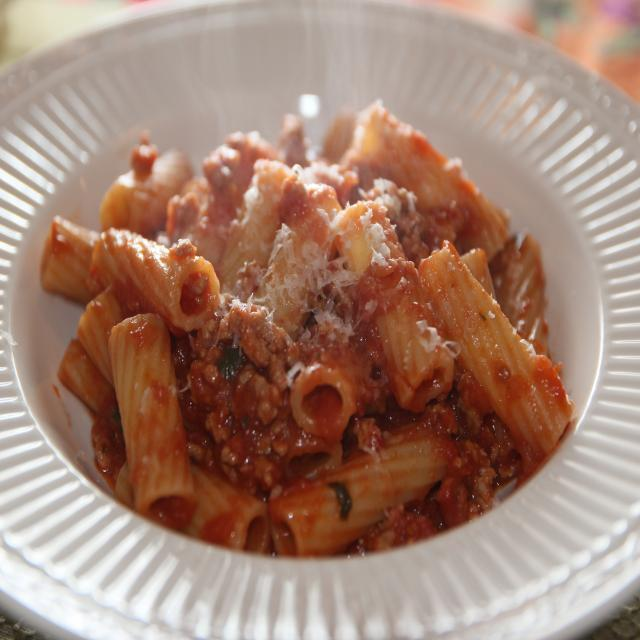Pasta al ragu: (48, 85, 589, 533)
